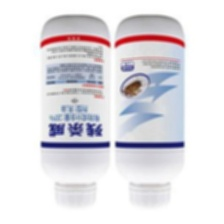book: (36, 13, 113, 213), (113, 13, 189, 210)
